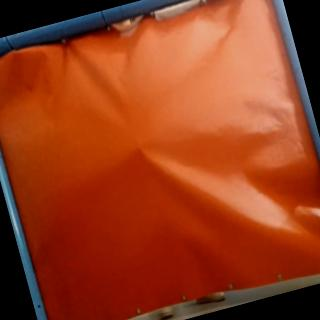Hit-hRxx: (130, 141, 146, 155)
